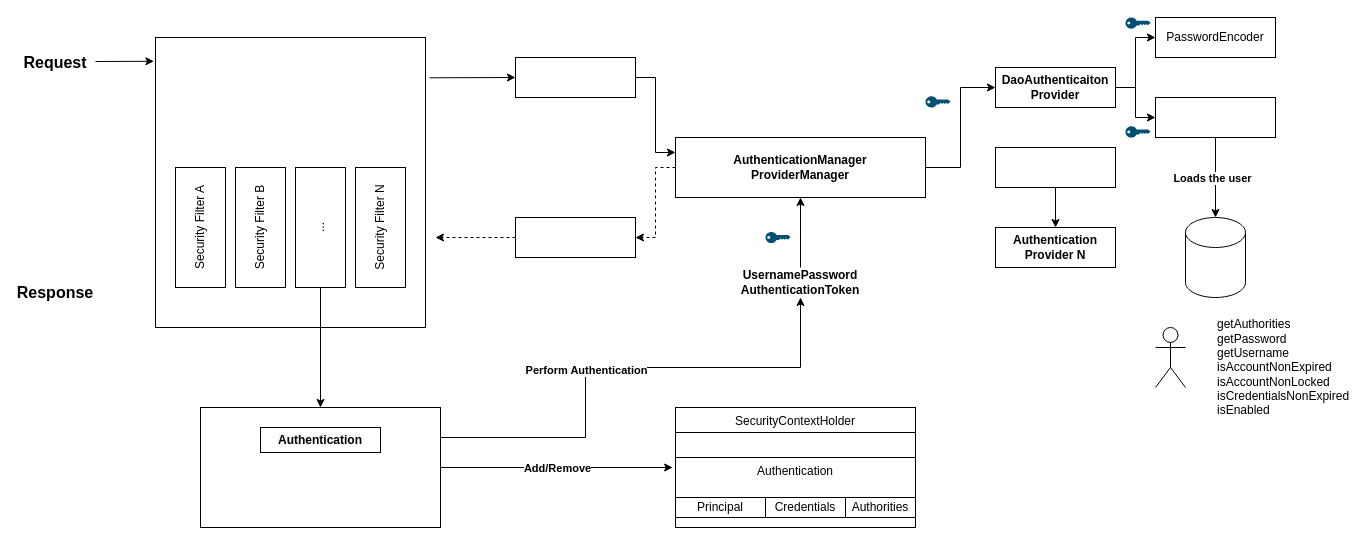
Some shapes in this 1366 by 545 pixel diagram are drawn without their labels. Each missing label, with the box of its shape:
Authentication Request: (514, 56, 636, 98)
Authentication Response: (514, 216, 636, 258)
JWTauthentication Provider: (994, 146, 1116, 188)
JWTAuthenticationFilter: (200, 406, 440, 528)
Security Filter Chain: (154, 36, 426, 328)
SecurityContext: (674, 432, 916, 528)
UserDetails: (1154, 326, 1186, 388)
UserDetailsService: (1154, 96, 1276, 138)
